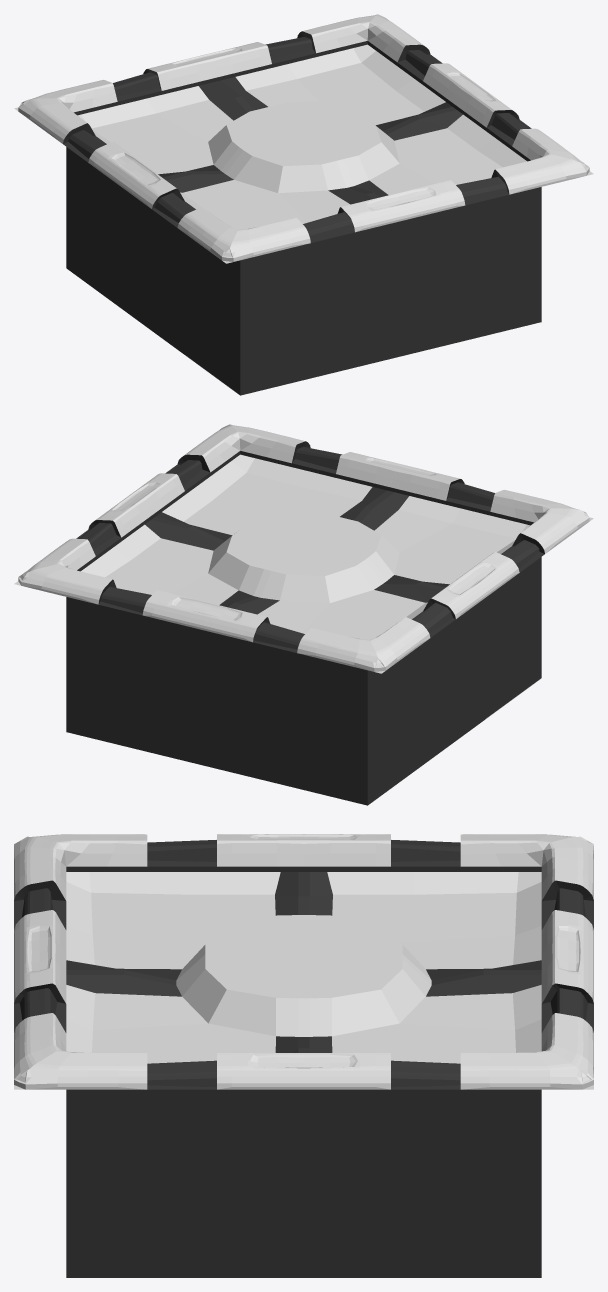
The model's file is presion.dae.
The picture shows the model from 3 angles, top to bottom: view 1: azimuth 30°, elevation 25°; view 2: azimuth 150°, elevation 25°; view 3: azimuth 270°, elevation 25°; orthographic projection. The views are drawn at different scales.
Visible parts, largest first — view 1: Interruptor, Plataforma; view 2: Interruptor, Plataforma; view 3: Interruptor, Plataforma.
Part boxes in pixels (x1,y1,x2,y2): Interruptor: [14, 14, 593, 395]; Plataforma: [77, 44, 526, 229]; Interruptor: [14, 424, 593, 805]; Plataforma: [81, 454, 530, 639]; Interruptor: [14, 834, 593, 1277]; Plataforma: [66, 872, 541, 1063].
Bounding box in the file's own units: 10 × 10 × 4.39.
Materials: 2 (2 with a texture image).
